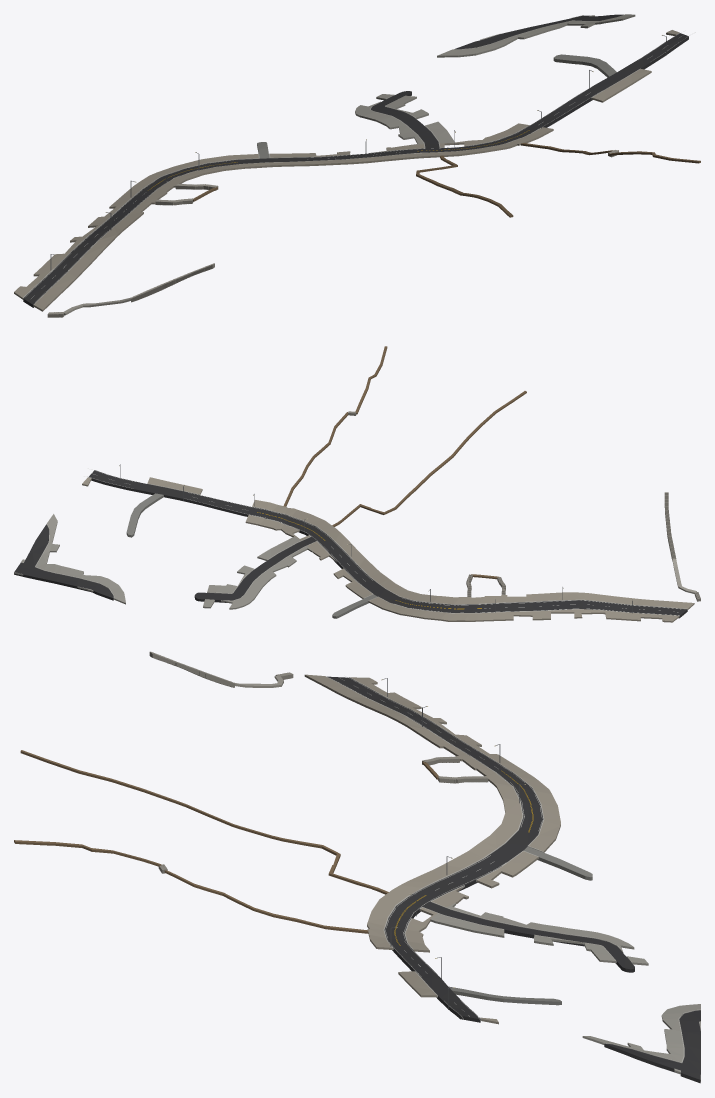
The model's file is 17-109447-59458.d272accd.glb.
3 renders of one model, top to bottom at view 1: azimuth 30°, elevation 25°; view 2: azimuth 150°, elevation 25°; view 3: azimuth 270°, elevation 25°, orthographic. The views are drawn at different scales.
Size of the model in its own units: 298 by 50.45 by 214.
